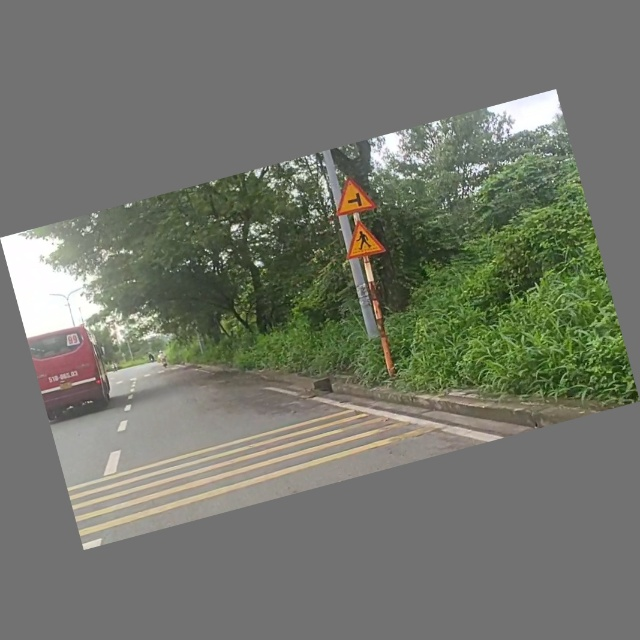W.205c: (329, 168, 388, 220)
W.224: (339, 214, 391, 264)
